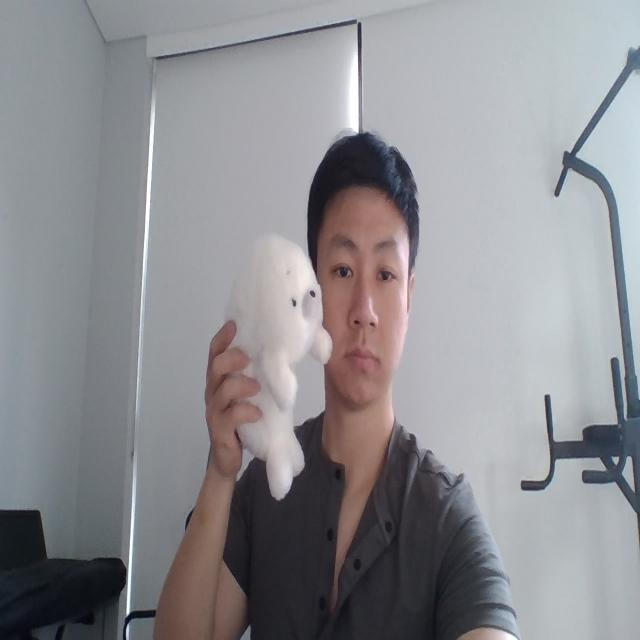seal_bb: (223, 231, 334, 503)
